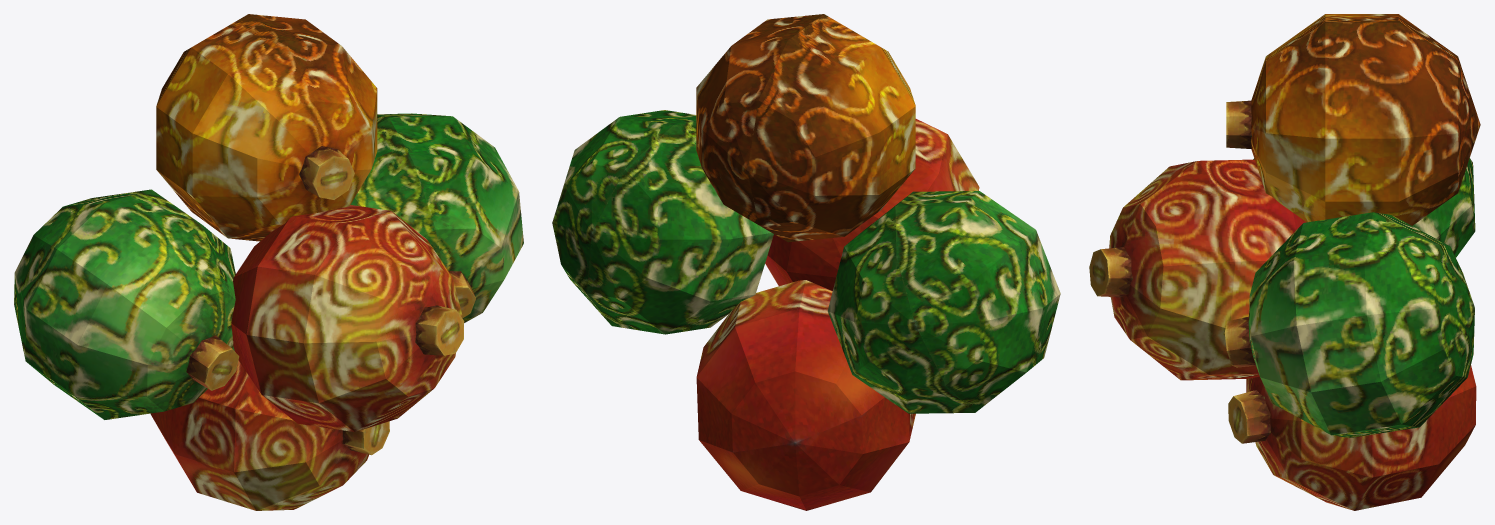
Rendered from huodong_fuben_382_qiu_02.obj.
The picture shows the model from 3 angles, left to right: view 1: azimuth 30°, elevation 25°; view 2: azimuth 150°, elevation 25°; view 3: azimuth 270°, elevation 25°; orthographic projection.
Parts seen in each view (by area): view 1: huodong_fuben_382_qiu_02; view 2: huodong_fuben_382_qiu_02; view 3: huodong_fuben_382_qiu_02.
Part boxes in pixels (left/top/right/bottom): huodong_fuben_382_qiu_02: left=14, top=14, right=523, bottom=510; huodong_fuben_382_qiu_02: left=552, top=14, right=1060, bottom=510; huodong_fuben_382_qiu_02: left=1089, top=14, right=1480, bottom=510.
Size of the model in its own units: 406 by 380 by 283.
1 material, 1 textured.
